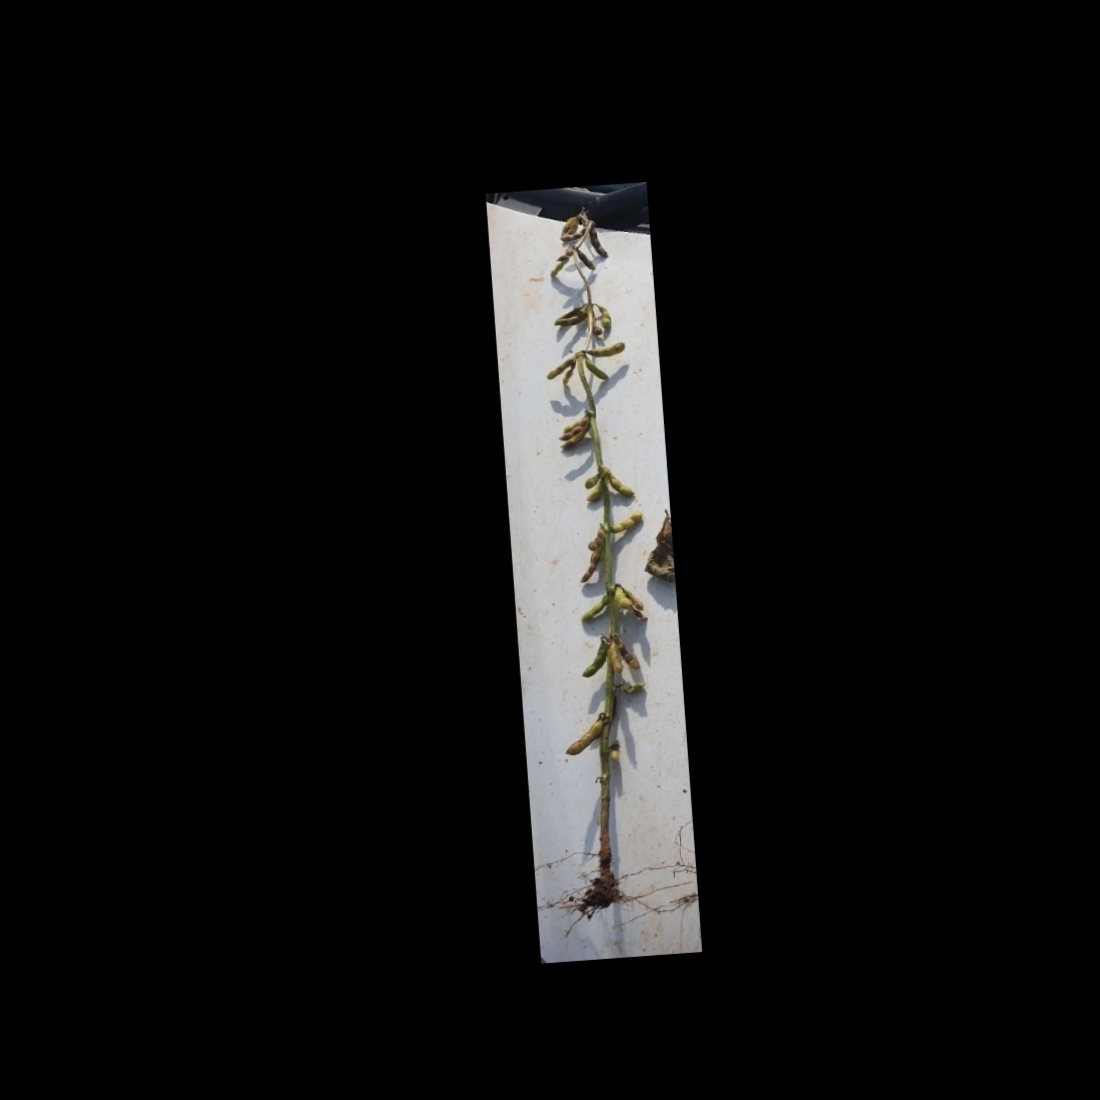pod: (561, 717, 606, 757), (578, 636, 611, 678), (577, 589, 614, 623), (577, 548, 605, 585), (584, 339, 629, 360), (608, 511, 645, 535), (605, 470, 636, 499), (615, 638, 642, 670), (587, 223, 609, 260), (544, 355, 575, 379), (585, 357, 611, 382), (557, 227, 590, 243), (577, 246, 596, 272), (608, 639, 622, 677), (594, 303, 613, 328), (559, 361, 578, 385)
soy: (518, 194, 675, 928)
